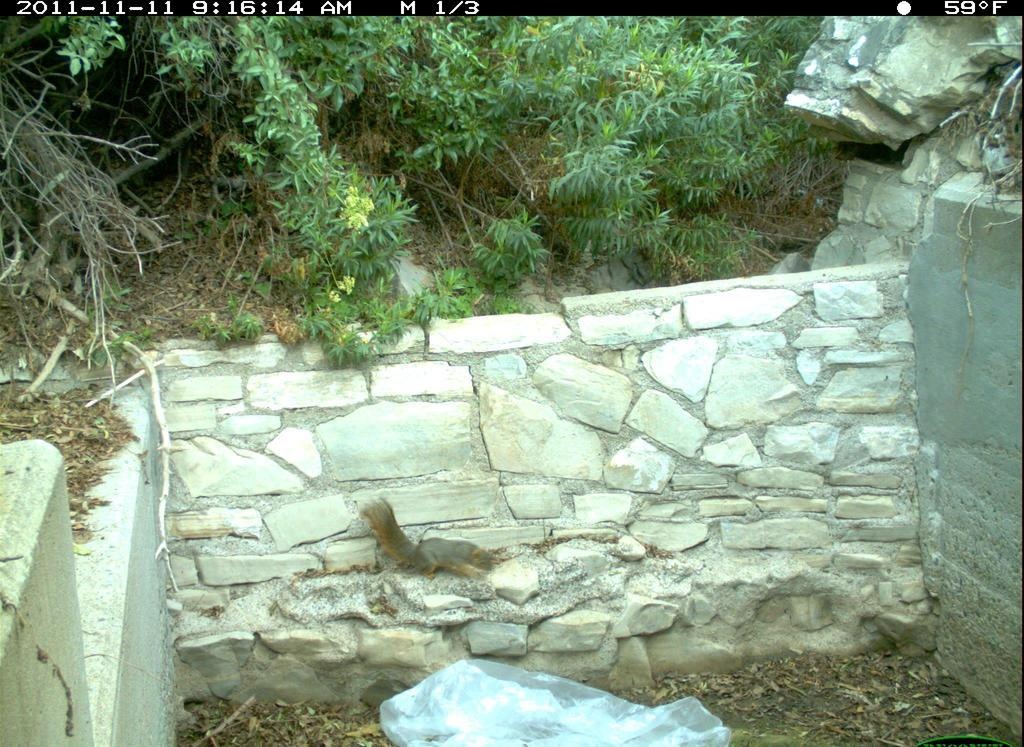squirrel: (354, 488, 513, 593)
